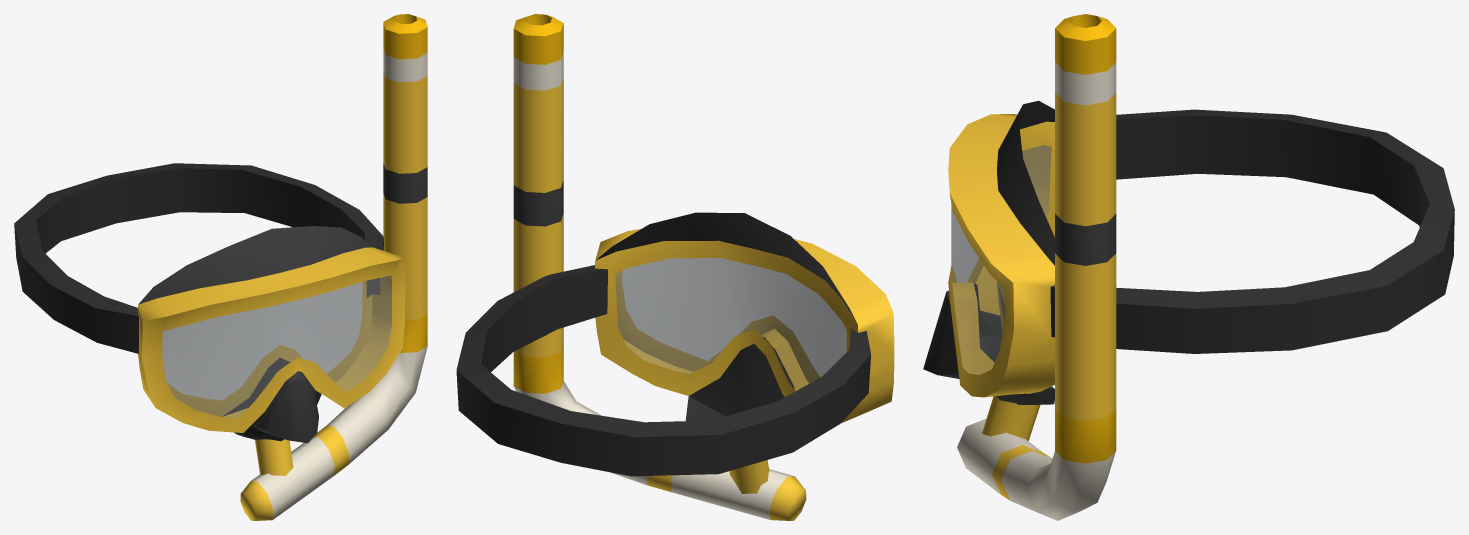
File: Eyewear_14.fbx
3 renders of one model, left to right at view 1: azimuth 30°, elevation 25°; view 2: azimuth 150°, elevation 25°; view 3: azimuth 270°, elevation 25°, orthographic. The views are drawn at different scales.
Visible parts, largest first — view 1: Eyewear_14; view 2: Eyewear_14; view 3: Eyewear_14.
Boxes of the visible parts, <box> form: Eyewear_14: <box>14,14,427,520</box>; Eyewear_14: <box>456,14,894,520</box>; Eyewear_14: <box>923,14,1454,520</box>.
Bounding box in the file's own units: 63.05 × 77.82 × 65.8.
